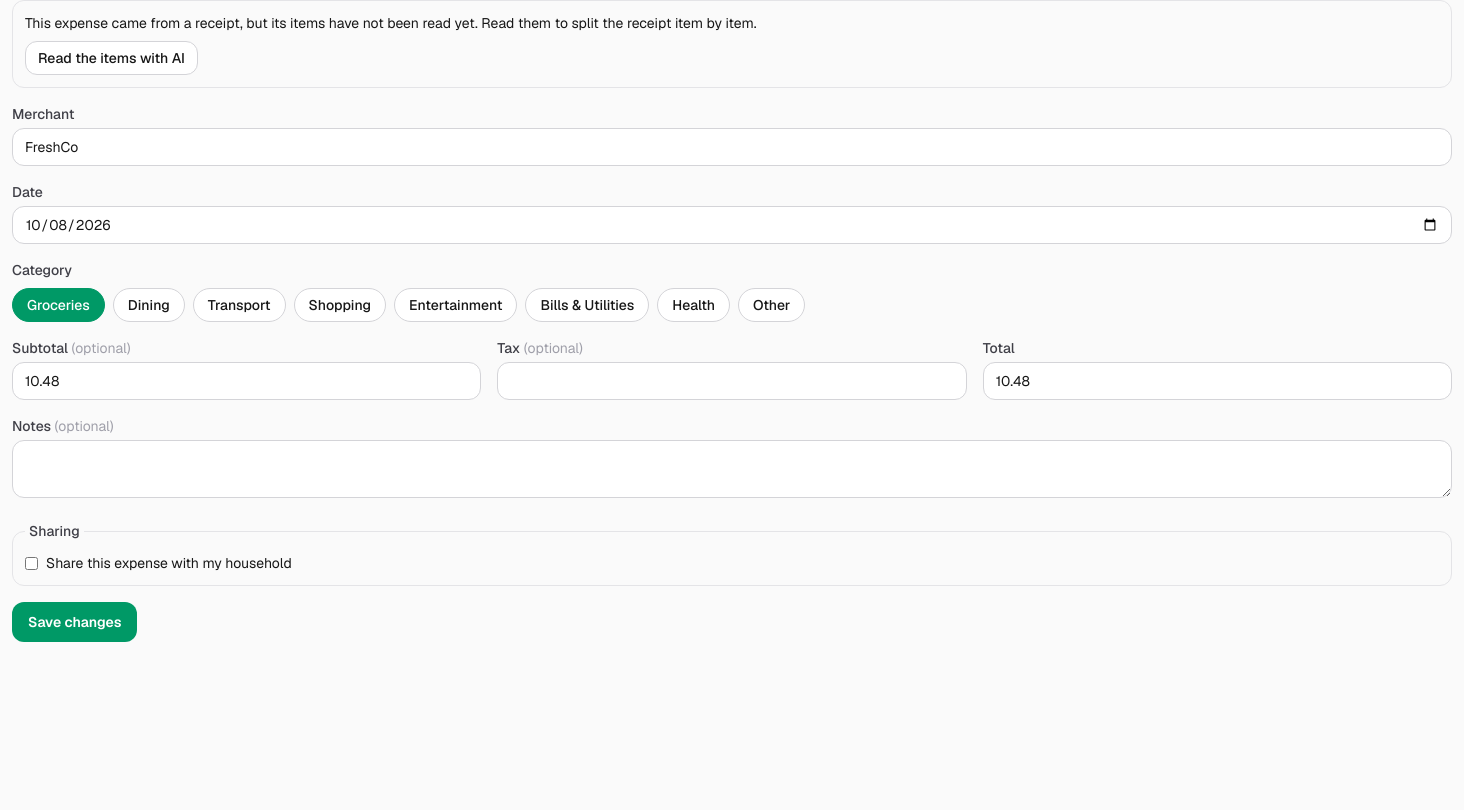
Test: a failed reading says why and can be tried again
Click the button "Read the items with AI" at (111, 58), box [25,41,198,75]
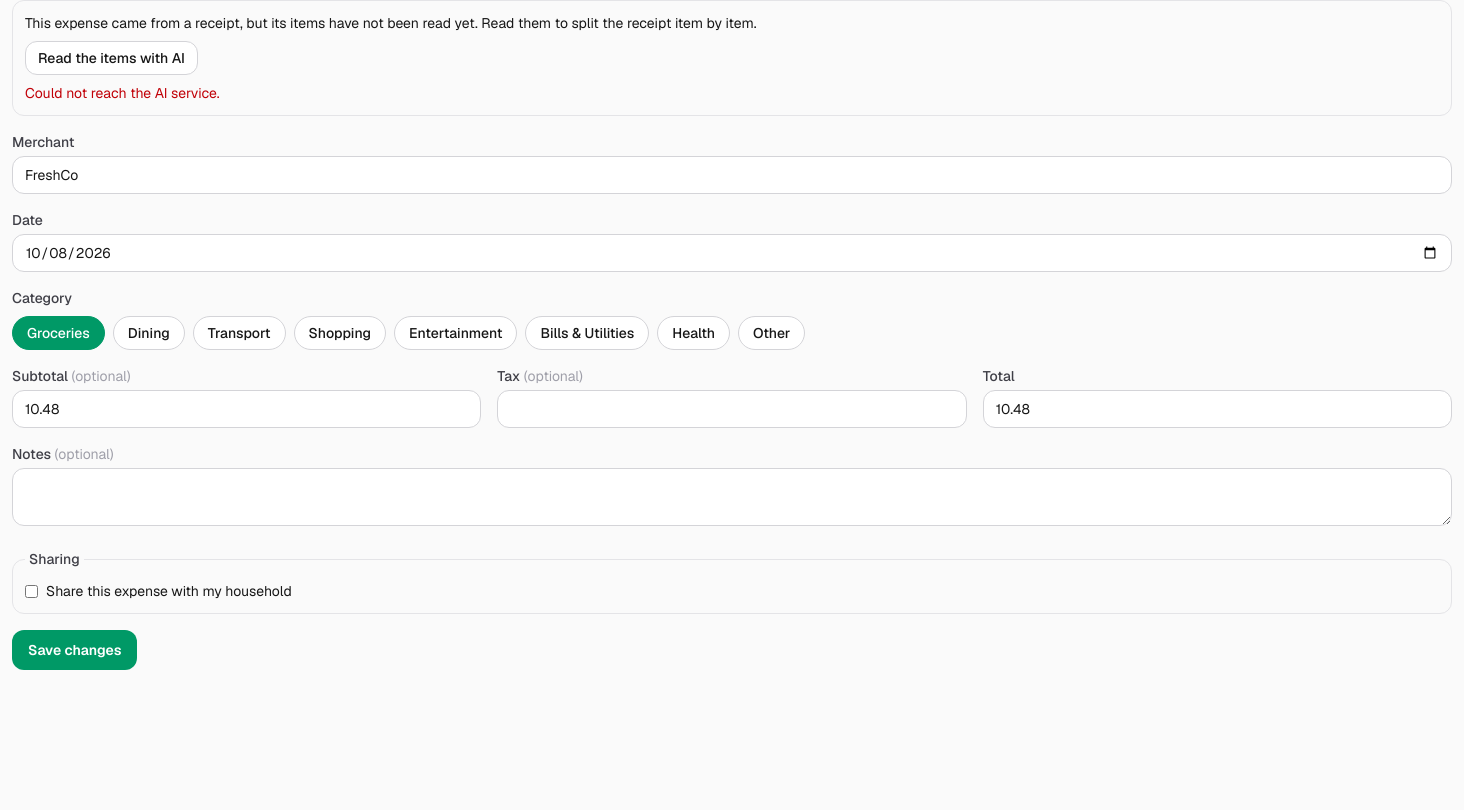
Now the message reads "Could not reach the AI service.", box [25,84,220,102]
